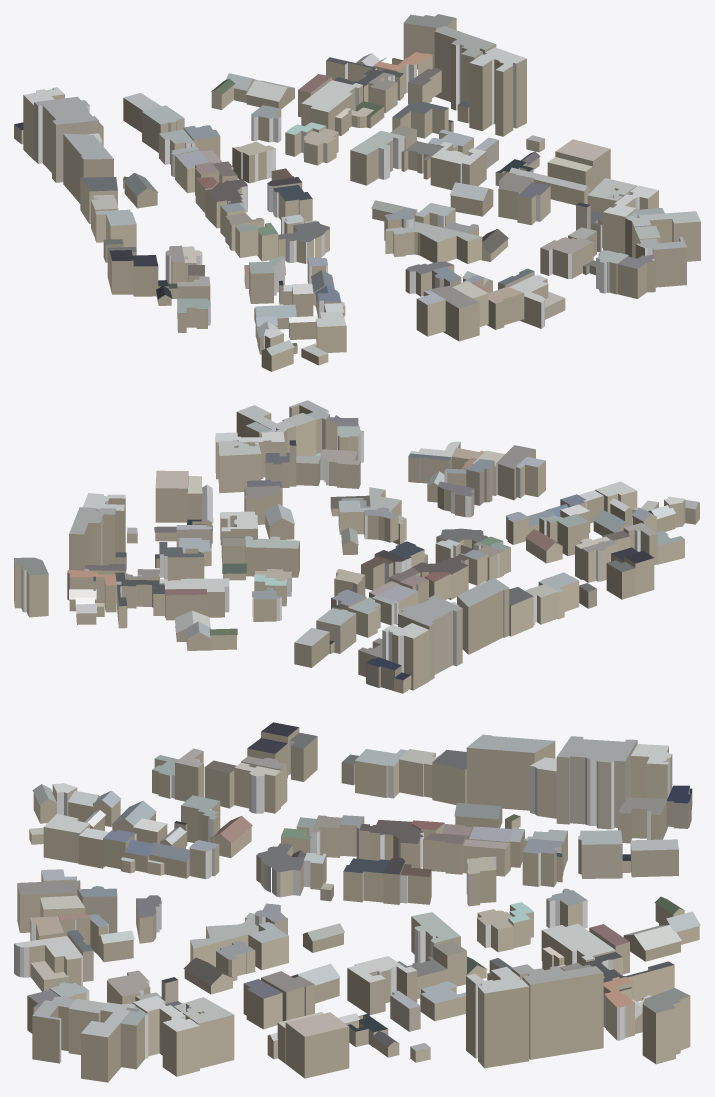
The picture shows the model from 3 angles, top to bottom: view 1: azimuth 30°, elevation 25°; view 2: azimuth 150°, elevation 25°; view 3: azimuth 270°, elevation 25°; orthographic projection. The views are drawn at different scales.
Parts seen in each view (by area): view 1: tuile; view 2: tuile; view 3: tuile.
Boxes of the visible parts, x1,y1,x2,y2 form: tuile: [14, 14, 700, 371]; tuile: [14, 400, 699, 693]; tuile: [14, 722, 700, 1082].
Bounding box in the file's own units: 266 × 42.99 × 267.
